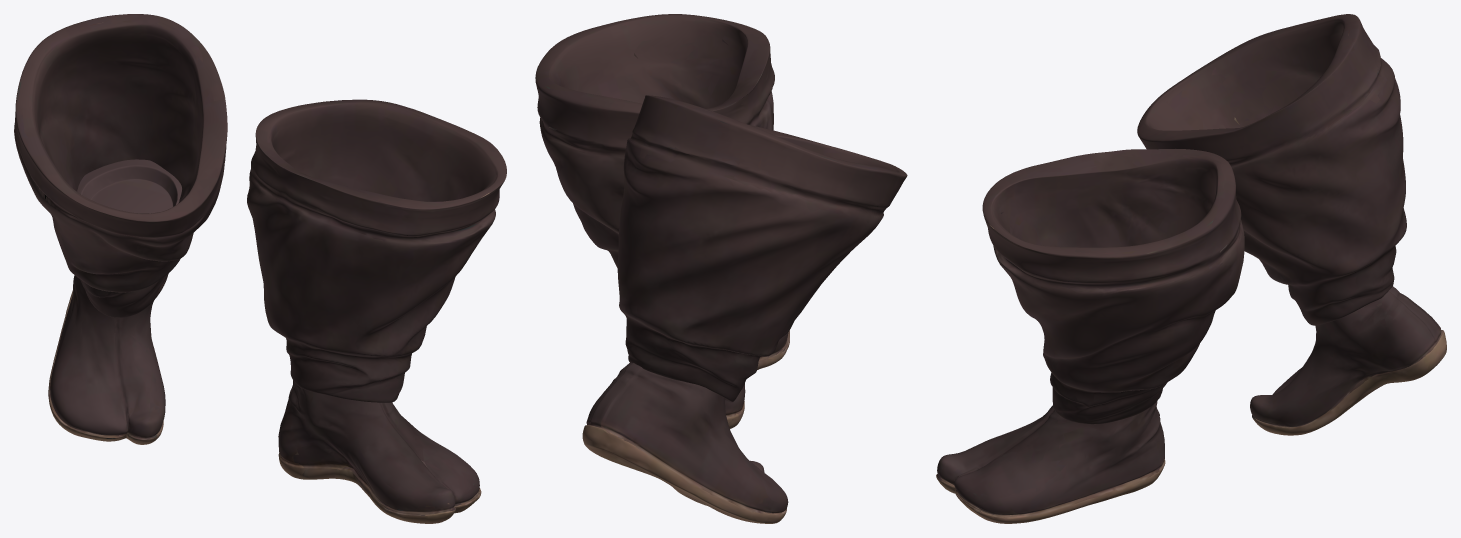
3 renders of one model, left to right at view 1: azimuth 30°, elevation 25°; view 2: azimuth 150°, elevation 25°; view 3: azimuth 270°, elevation 25°, orthographic. The views are drawn at different scales.
Visible parts, largest first — view 1: Shoes; view 2: Shoes; view 3: Shoes.
Part boxes in pixels (<box>): Shoes: <box>14,14,506,523</box>; Shoes: <box>535,14,907,523</box>; Shoes: <box>936,14,1446,523</box>.
Bounding box in the file's own units: 0.5589 × 0.5493 × 0.6411.
Materials: 1 (1 with a texture image).
